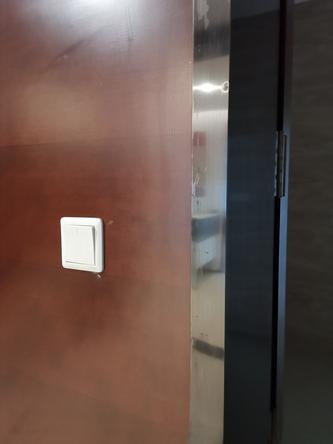switch: (59, 221, 99, 266)
